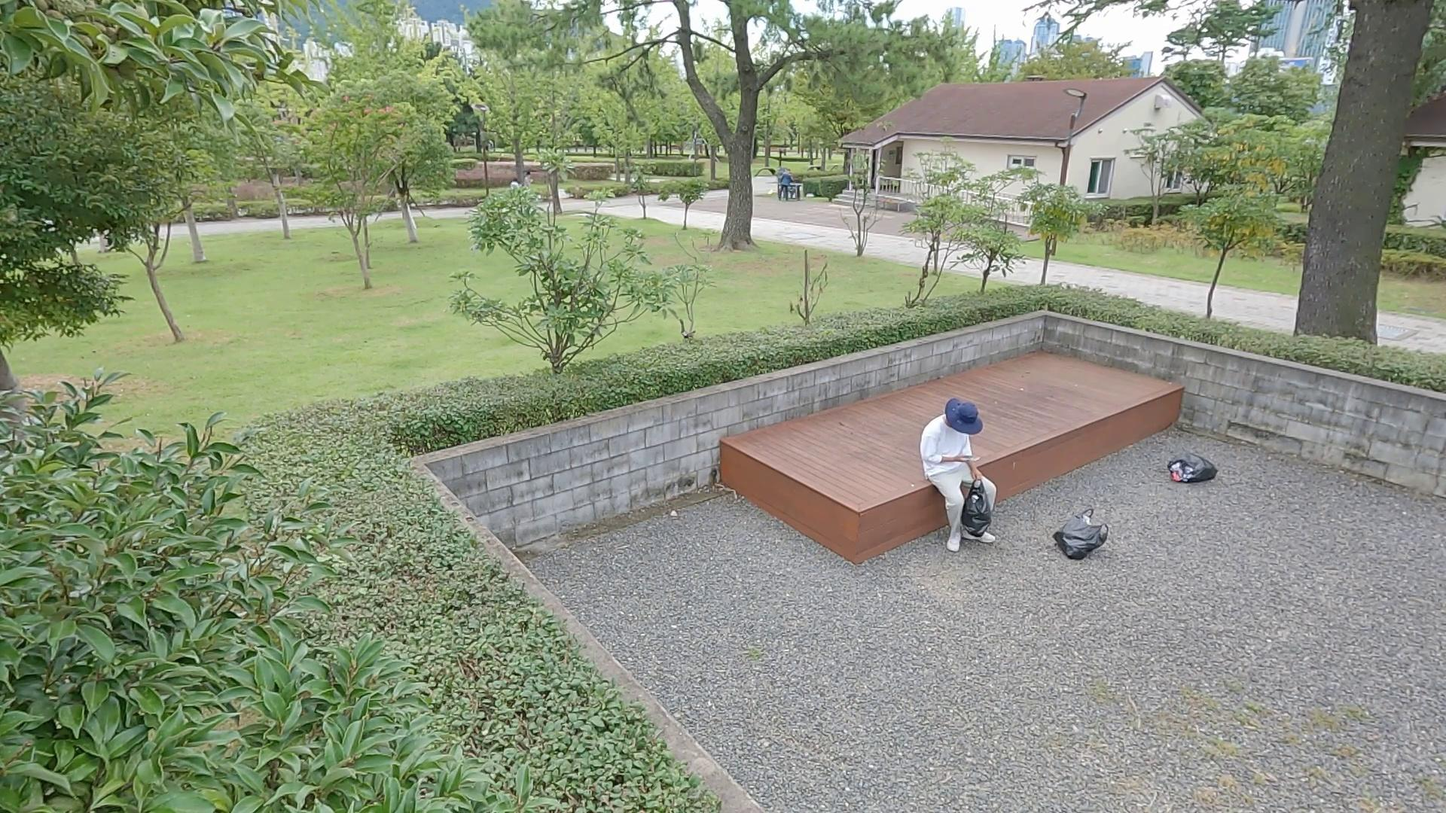person: (917, 376, 1006, 557), (778, 168, 794, 203)
trash: (1048, 500, 1116, 567), (1164, 440, 1222, 496), (956, 473, 994, 545)
